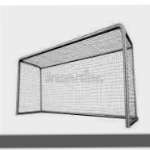goals: (15, 21, 140, 128)
